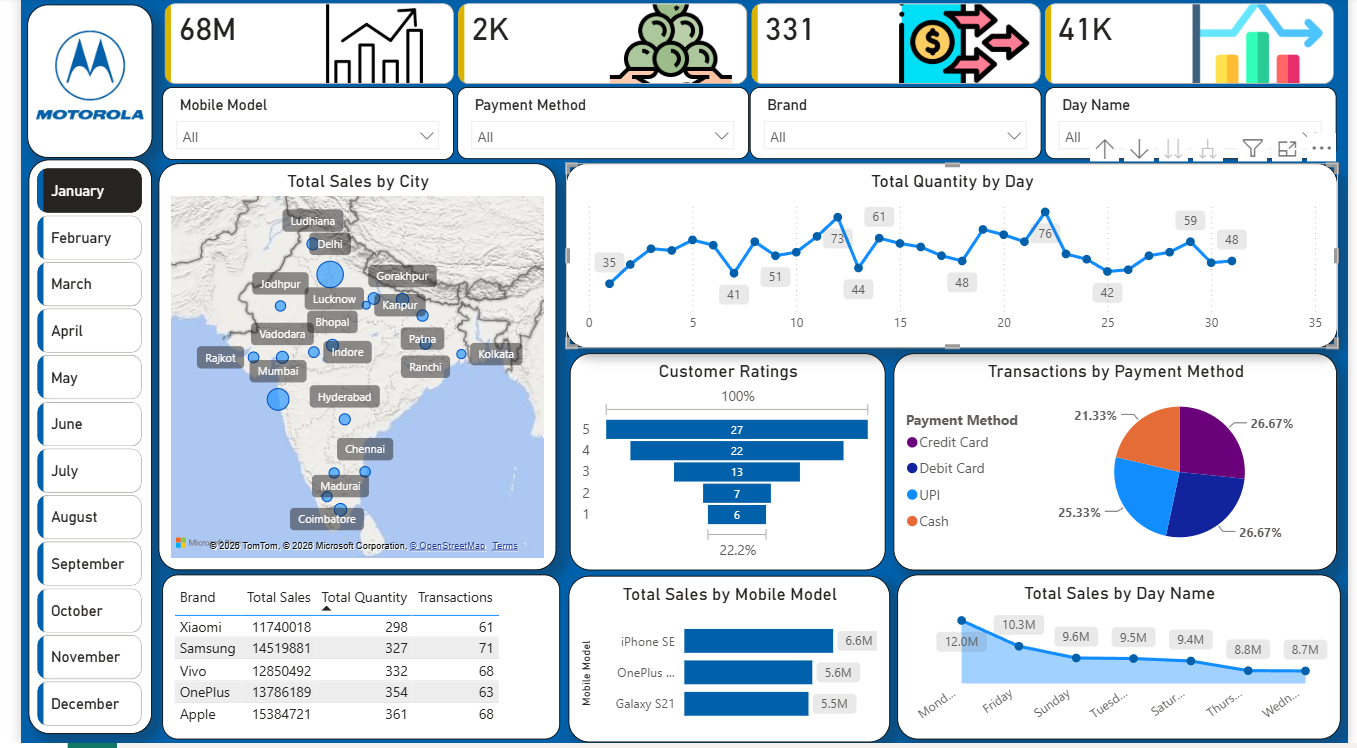

The page's visual inventory and layout, read from the dashboard file:
{"tool":"powerbi","page":{"name":"Page 1","canvas":[1280,720],"ordinal":0},"visuals":[{"type":"shape","box":[5.5,6.9,120.8,148.2],"z":0},{"type":"image","box":[9.6,16.5,113.9,116.6],"z":1000},{"type":"shape","box":[6.9,156.4,119.4,554.4],"z":2000},{"type":"advancedSlicerVisual","fields":{"Values":["Sales_Data.Date.Variation.Date Hierarchy.Month"]},"box":[11,160.5,111.1,548.9],"z":3000},{"type":"cardVisual","fields":{"Data":["Sales_Data.Total Sales","Sales_Data.Total Quantity","Sales_Data.Transactions","Sales_Data.Average"]},"box":[134,5.6,1140.1,83.7],"z":4000},{"type":"map","fields":{"Category":["Sales_Data.City"],"Size":["Sales_Data.Total Sales"]},"box":[132.9,160.8,384.1,393.1],"z":5000},{"type":"lineChart","fields":{"Category":["Sales_Data.Date.Variation.Date Hierarchy.Month","Sales_Data.Date.Variation.Date Hierarchy.Day"],"Y":["Sales_Data.Total Quantity"]},"box":[525.9,160.8,744.8,178.7],"z":6000},{"type":"clusteredBarChart","fields":{"Category":["Sales_Data.Mobile Model"],"Y":["Sales_Data.Total Sales"]},"box":[528.3,558.5,310.1,160.5],"z":7000},{"type":"pieChart","fields":{"Category":["Sales_Data.Payment Method"],"Y":["Sales_Data.Transactions"]},"box":[842.5,344.4,428.1,209.9],"z":8000},{"type":"funnel","title":"Customer Ratings","fields":{"Category":["Sales_Data.Customer Ratings"],"Y":["CountNonNull(Sales_Data.Customer Ratings)"]},"box":[529.7,344.4,304.6,209.9],"z":9000},{"type":"areaChart","fields":{"Category":["Sales_Data.Day Name"],"Y":["Sales_Data.Total Sales"]},"box":[845.3,557.1,428.1,159.2],"z":10000},{"type":"tableEx","fields":{"Values":["Sales_Data.Brand","Sales_Data.Total Sales","Sales_Data.Total Quantity","Sales_Data.Transactions"]},"box":[135.8,557.1,384.2,159.2],"z":11000},{"type":"slicer","fields":{"Values":["Sales_Data.Mobile Model"]},"box":[136.2,87.1,281.4,70.3],"z":12000},{"type":"slicer","fields":{"Values":["Sales_Data.Payment Method"]},"box":[421,87.1,281.4,69.2],"z":13000},{"type":"slicer","fields":{"Values":["Sales_Data.Brand"]},"box":[703.5,87.1,281.4,69.2],"z":14000},{"type":"slicer","fields":{"Values":["Sales_Data.Day Name"]},"box":[988.2,87.1,281.4,69.2],"z":15000}]}

Visuals, with their boxes in screenshot pixels (x1, y1, x2, y2), scaled from the page's 1280x720 canvas onto the 1357x748 screenshot:
shape: rect(6, 7, 134, 161)
image: rect(10, 17, 131, 138)
shape: rect(7, 162, 134, 738)
advancedSlicerVisual - Sales_Data.Date.Variation.Date Hierarchy.Month: rect(12, 167, 129, 737)
cardVisual - Sales_Data.Total Sales x Sales_Data.Total Quantity: rect(142, 6, 1351, 93)
map - Sales_Data.City x Sales_Data.Total Sales: rect(141, 167, 548, 575)
lineChart - Sales_Data.Date.Variation.Date Hierarchy.Month x Sales_Data.Date.Variation.Date Hierarchy.Day: rect(558, 167, 1347, 353)
clusteredBarChart - Sales_Data.Mobile Model x Sales_Data.Total Sales: rect(560, 580, 889, 747)
pieChart - Sales_Data.Payment Method x Sales_Data.Transactions: rect(893, 358, 1347, 576)
"Customer Ratings" funnel: rect(562, 358, 884, 576)
areaChart - Sales_Data.Day Name x Sales_Data.Total Sales: rect(896, 579, 1350, 744)
tableEx - Sales_Data.Brand x Sales_Data.Total Sales: rect(144, 579, 551, 744)
slicer - Sales_Data.Mobile Model: rect(144, 90, 443, 164)
slicer - Sales_Data.Payment Method: rect(446, 90, 745, 162)
slicer - Sales_Data.Brand: rect(746, 90, 1044, 162)
slicer - Sales_Data.Day Name: rect(1048, 90, 1346, 162)
